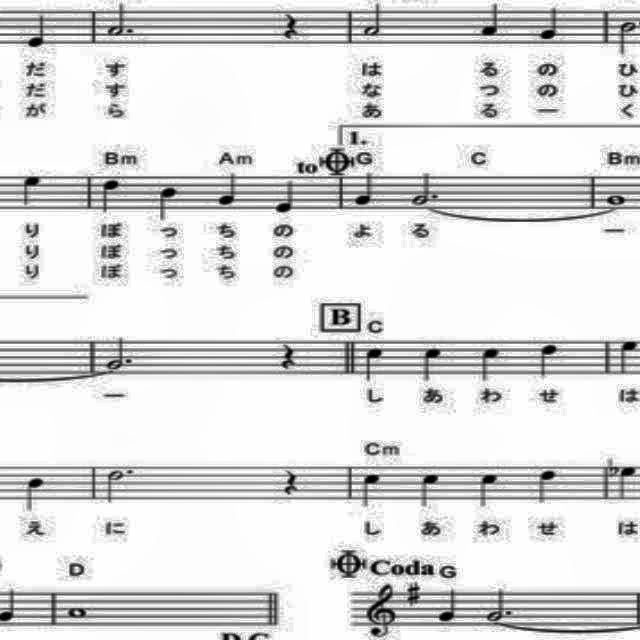Diez: (405, 582, 423, 610)
Full-note: (66, 604, 90, 622), (606, 190, 630, 206)
Half-dot: (104, 330, 136, 374), (105, 0, 139, 40), (102, 463, 134, 505), (411, 169, 445, 207)
Half-note: (615, 16, 640, 58), (362, 0, 384, 38), (639, 16, 640, 58)
Half-rest: (482, 586, 518, 626)
Quarter-note: (14, 468, 51, 516), (477, 464, 508, 512), (354, 470, 388, 510), (98, 166, 122, 222), (616, 452, 640, 508), (476, 341, 506, 383), (535, 460, 561, 508), (417, 344, 448, 384), (535, 2, 565, 42), (418, 463, 442, 512), (23, 8, 49, 52), (352, 169, 380, 209), (362, 344, 390, 384), (435, 585, 461, 627), (215, 168, 243, 206), (156, 182, 180, 222), (538, 338, 562, 378), (276, 177, 300, 216), (21, 169, 44, 209), (480, 1, 504, 39)
Quarter-rest: (274, 6, 302, 46), (280, 460, 304, 500), (278, 338, 298, 376)
Treble-clef: (364, 582, 400, 640)
